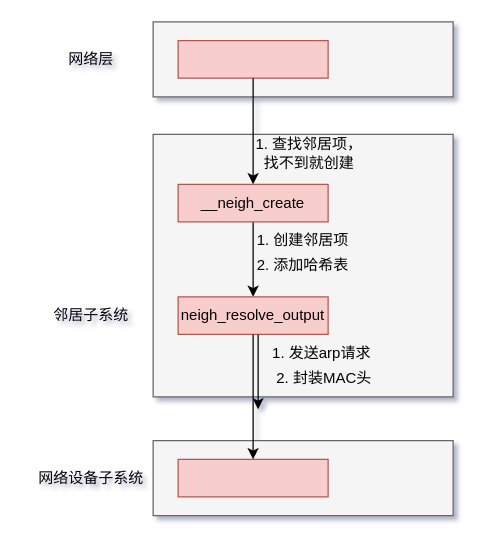
The diagram is 483 pixels wide and 545 high, and some of its shapes have lost their labels. Here are the shapes that lost their labels. From the top down, the box of each, then its label:
(177, 39, 328, 78): ip_finish_output2
(177, 458, 328, 497): dev_queue_xmit
